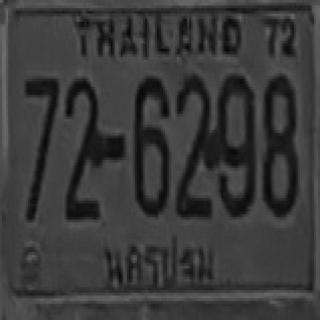N02: (175, 73, 213, 203), (65, 76, 102, 204)
N06: (132, 76, 168, 214)
N07: (24, 76, 58, 214), (24, 76, 58, 187), (24, 77, 58, 164)
N08: (262, 73, 296, 214)
N09: (214, 73, 255, 214)
P28: (97, 231, 224, 297)
